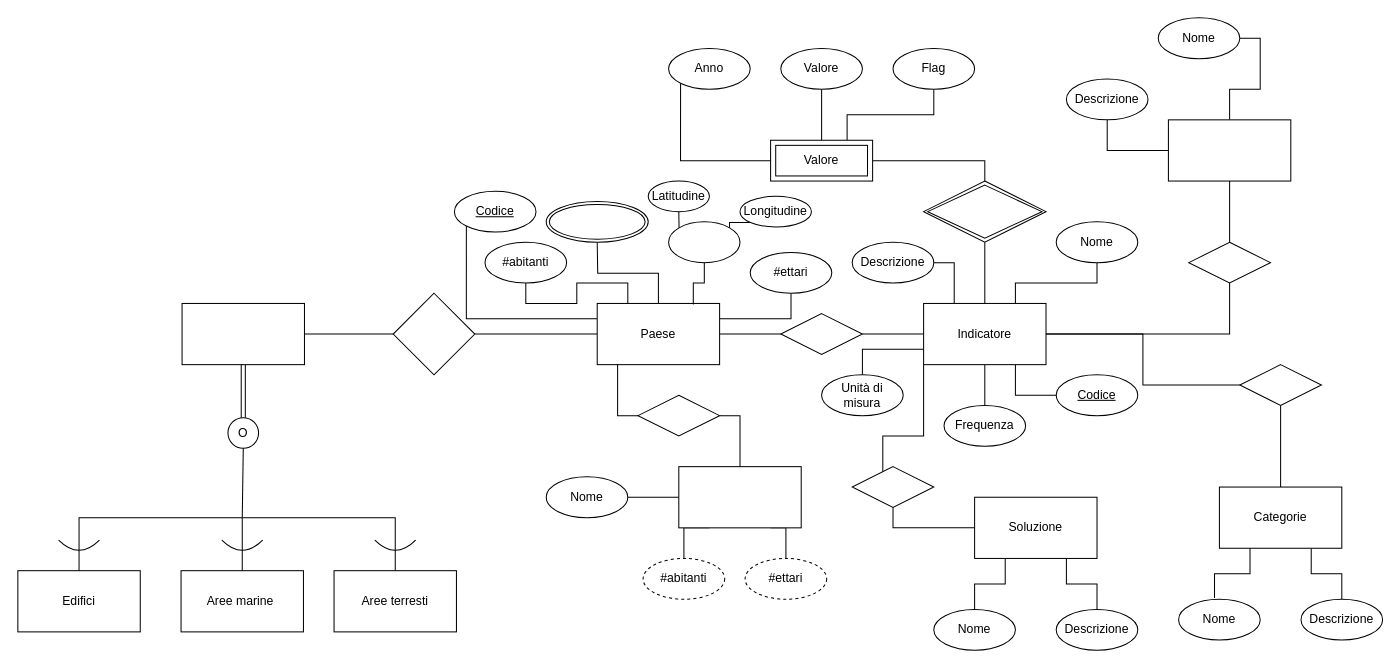
Some shapes in this 1400 by 668 pixel diagram are drawn without their labels. The shapes that lost their labels are listed below. From the top down, each one's centre as x and y in pixels, then its label:
At (1229,150): "Fonte".
At (596,221): "Categoria".
At (984,211): "Misurata".
At (704,242): "Coordinate".
At (1229,262): "Fornito".
At (242,333): "Luoghi".
At (433,333): "Possiede".
At (821,333): "Ha".
At (1280,384): "Appartiene".
At (678,415): "Fa parte".
At (739,497): "Continente".
At (892,486): "Risolvibile".
